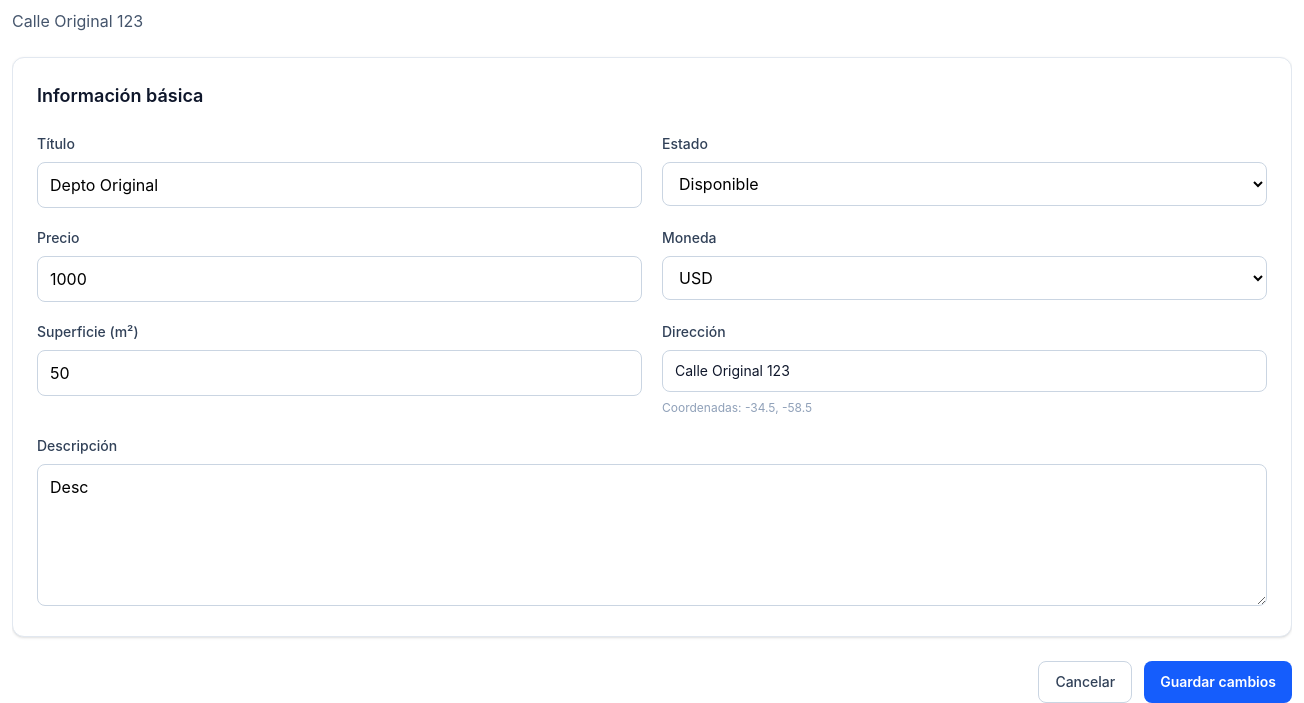
Test: DepartmentEditPage › muestra mensaje correspondiente para status 400
This screenshot has width=1304, height=703.
(page scrolled)
Click the button "Guardar cambios".
click(1218, 682)  # box [1144,661,1292,702]
(page scrolled)
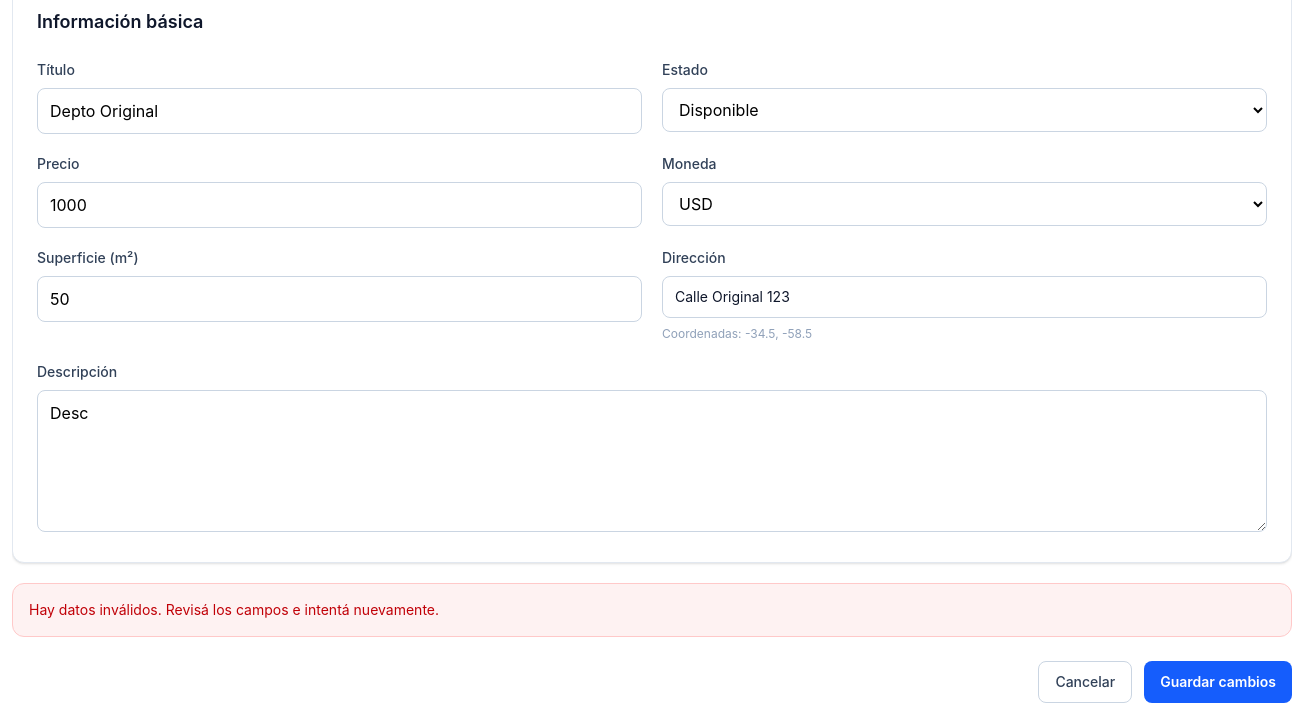
Expected: the text "Hay datos inválidos. Revisá los campos e intentá nuevamente." is shown, [12,583,1292,637]
